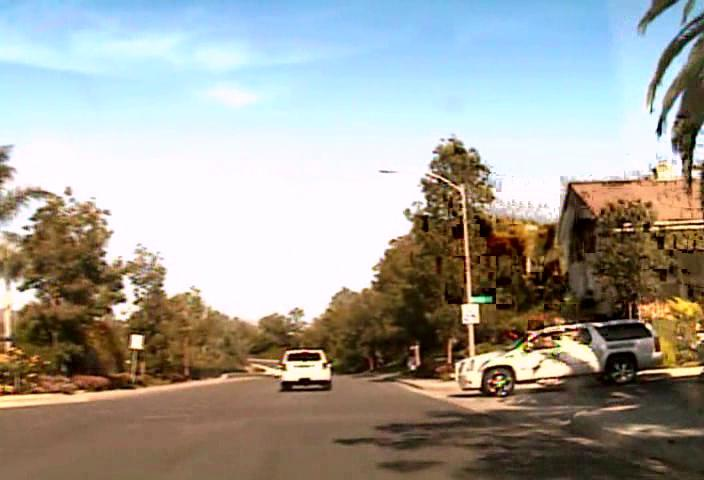speedLimitUrdbl: (460, 303, 480, 325)
